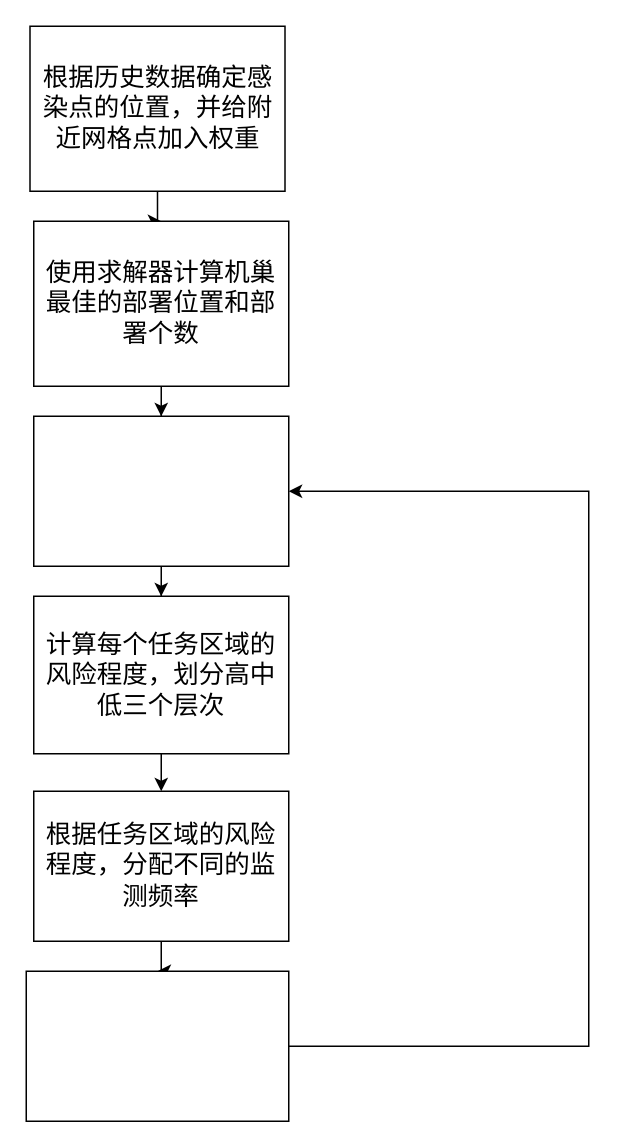
Some shapes in this 627 by 1148 pixel diagram are drawn without their labels. Here are the shapes that lost their labels. From the top down, the centre of each, then its label:
point 160,490: 划分任务区域
point 157,1045: 根据无人机监测的结果，修改每个任务区域的风险程度
